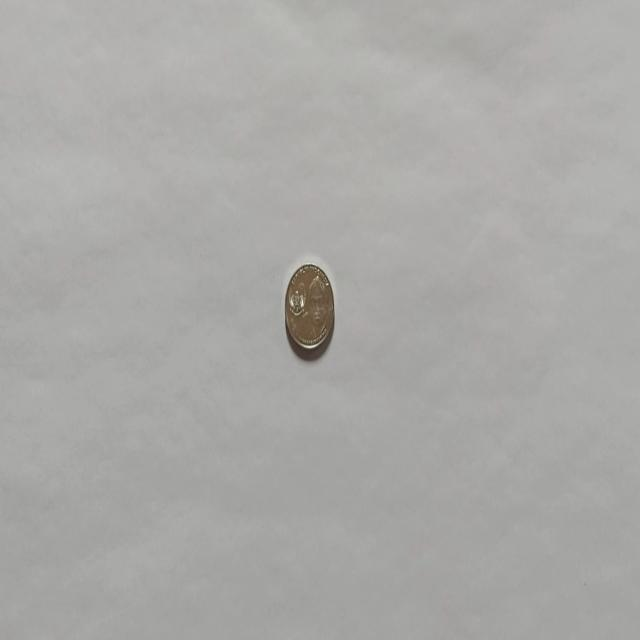dua ratus rupiah: (284, 261, 334, 351)
